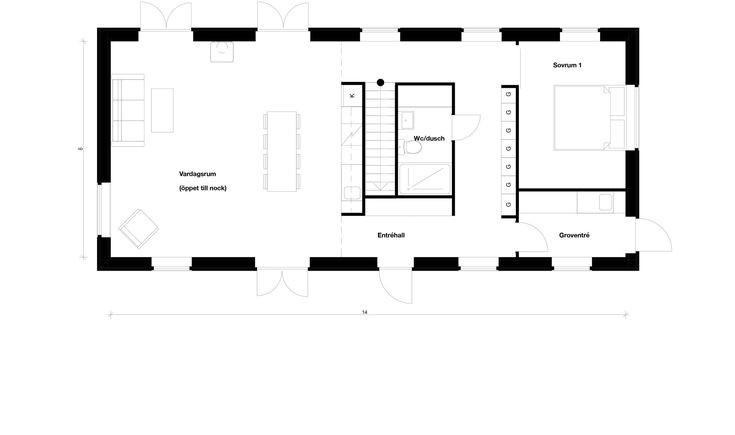door: (631, 208, 678, 257), (138, 1, 196, 35), (378, 269, 420, 309), (257, 257, 305, 289), (257, 5, 308, 35), (514, 219, 553, 252)
room: (93, 11, 641, 281)
wall: (98, 20, 117, 186), (500, 25, 564, 45), (622, 149, 639, 222), (399, 23, 461, 43), (412, 248, 462, 272), (620, 33, 641, 90), (190, 24, 258, 41), (94, 253, 154, 272), (187, 258, 255, 274), (492, 255, 556, 272), (308, 255, 384, 268), (585, 254, 638, 272), (305, 25, 364, 36), (598, 23, 643, 37)
